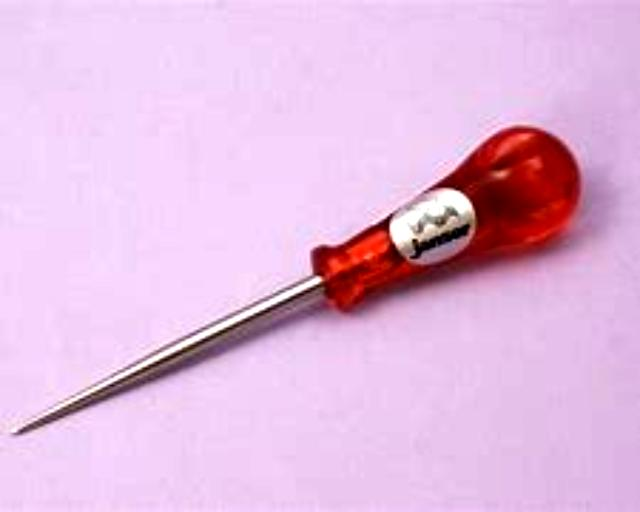ice pick: (12, 122, 586, 438)
